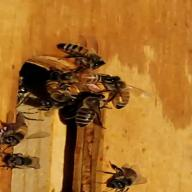Bee: (0, 121, 50, 173), (46, 41, 120, 72), (96, 69, 139, 110), (46, 78, 89, 110), (73, 92, 111, 128)
